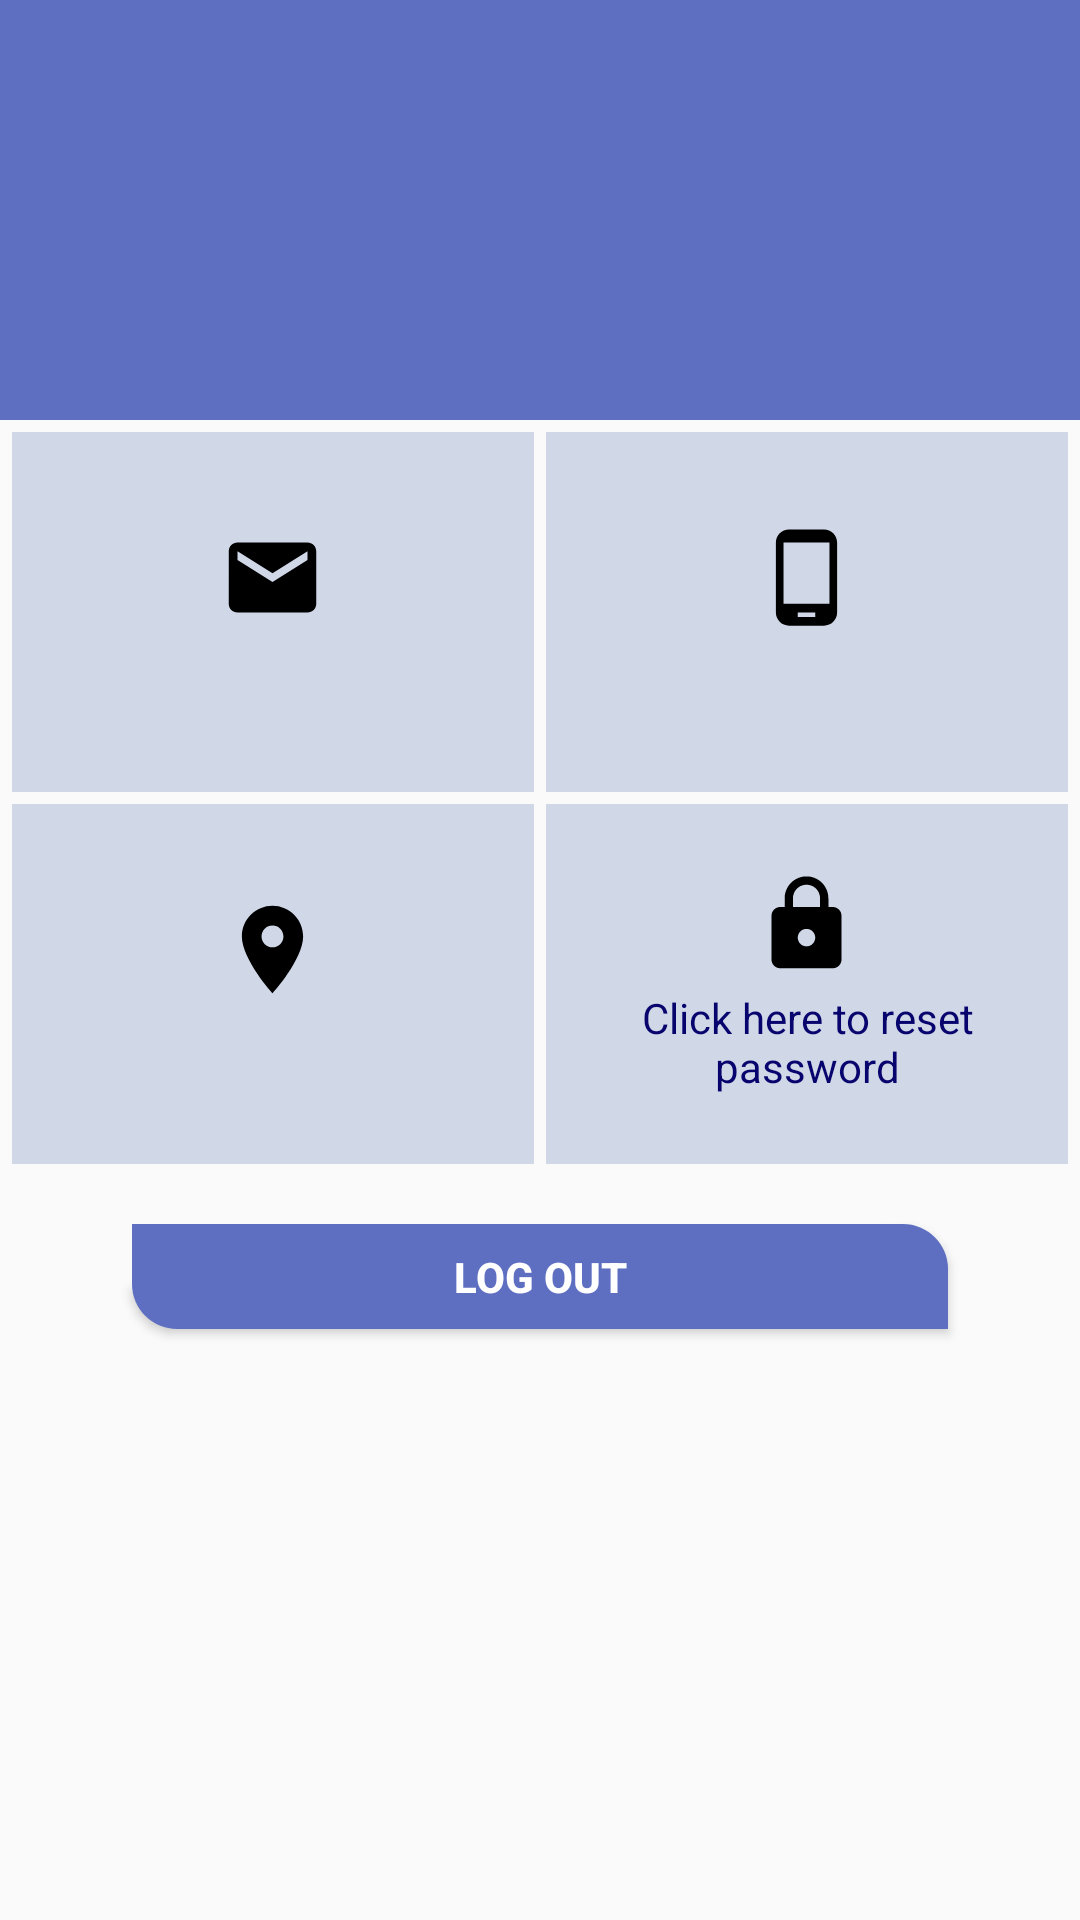

Named icons in this screenshot (1080px x 1920px) and their centers, (x,y):
email: (272,577)
location on: (272,949)
lock: (806,922)
phone android: (806,577)
